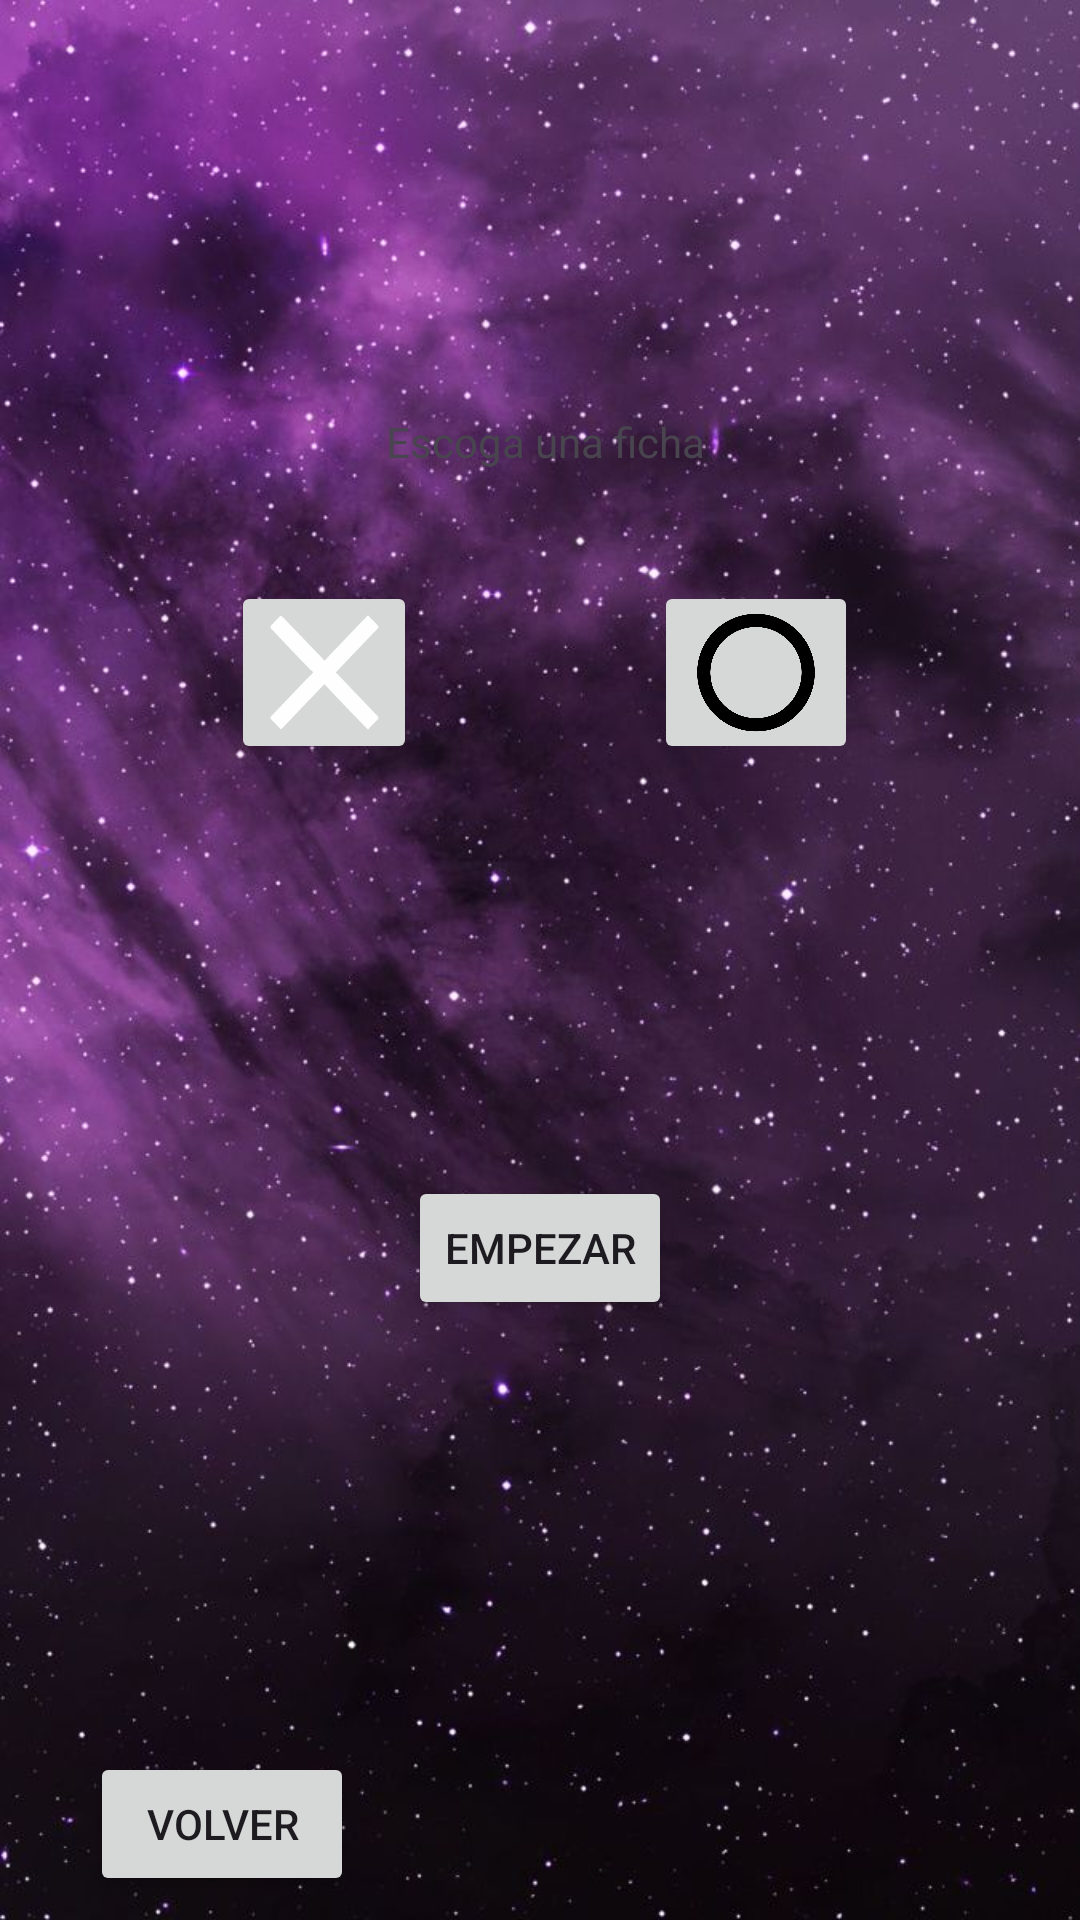

Icon bounding boxes for this 1080px x 1920px phone screenshot, format box=[x1, y1, x2, y2]:
Boton o: box=[654, 581, 858, 764]
Boton x: box=[231, 581, 417, 764]
